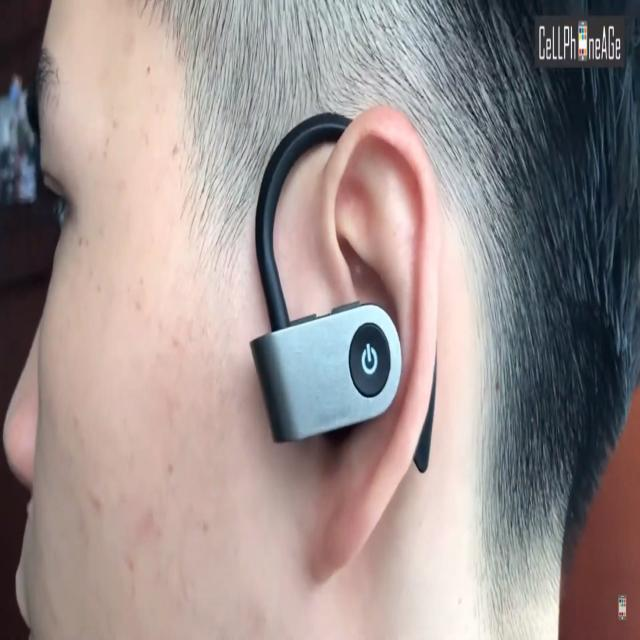airpods: (247, 111, 438, 476)
